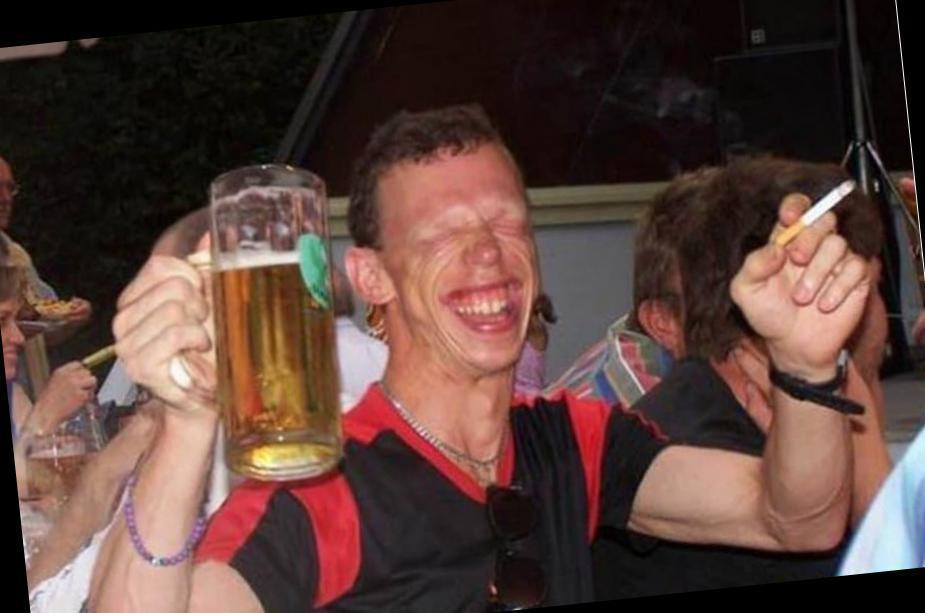Drunk: (397, 169, 542, 366)
